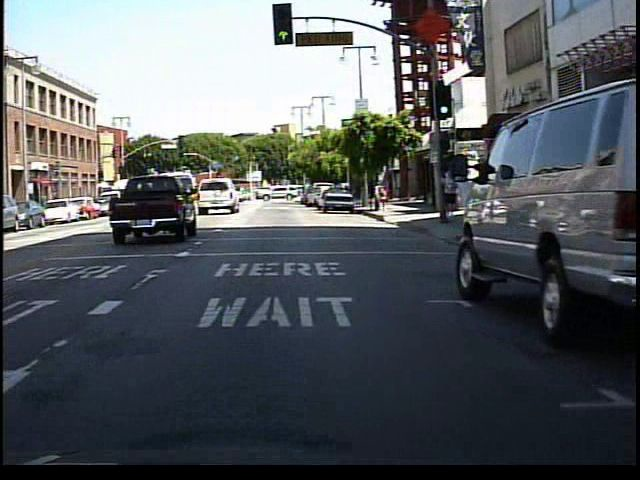person: (439, 164, 462, 223)
